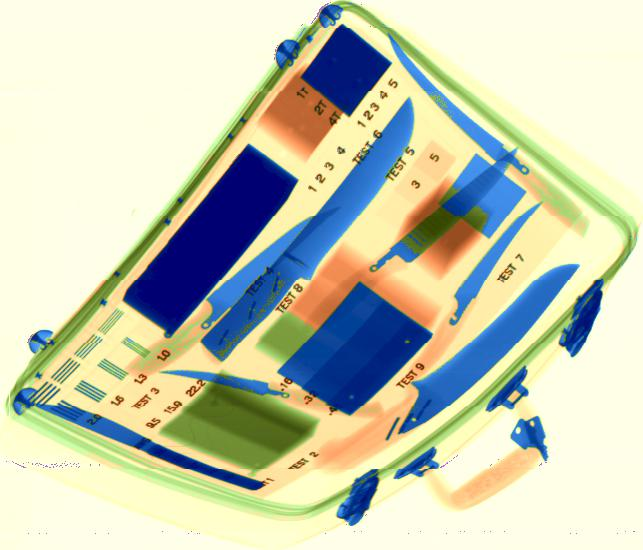Knife: (204, 96, 416, 362), (388, 34, 592, 236), (378, 262, 582, 438), (140, 207, 342, 368), (362, 145, 518, 286), (34, 403, 263, 491), (156, 366, 382, 418)
